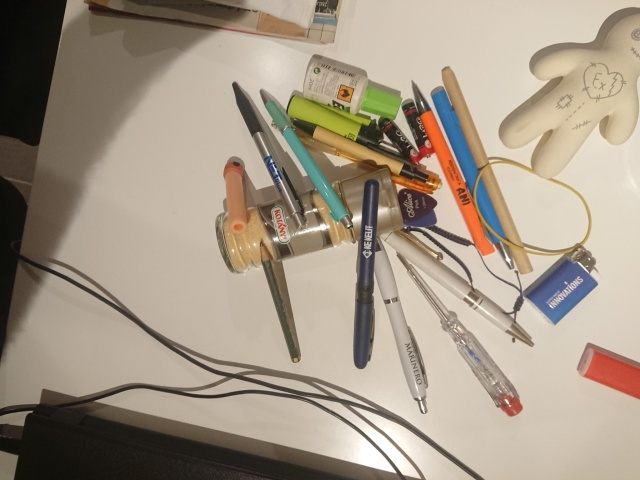Kotanyi Garlic Granules 70g: (213, 166, 407, 276)
